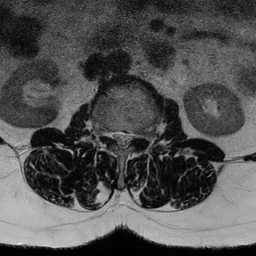CCS_normal: (120, 122, 126, 155)
LFS_stenosis: (133, 124, 141, 146)
LLS_stenosis: (126, 122, 133, 150)
RFS_normal: (102, 119, 112, 144)
RLS_normal: (112, 122, 120, 149)
